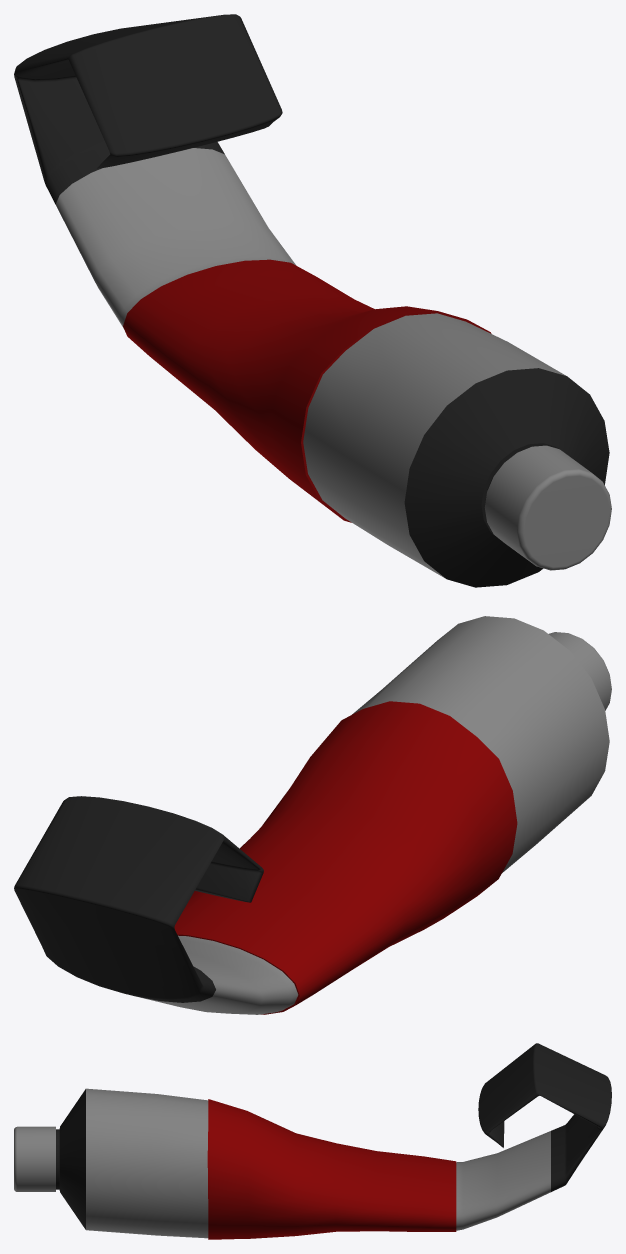
Rendered from sm_paint_tube.fbx.
3 renders of one model, top to bottom at view 1: azimuth 30°, elevation 25°; view 2: azimuth 150°, elevation 25°; view 3: azimuth 270°, elevation 25°, orthographic. The views are drawn at different scales.
Parts seen in each view (by area): view 1: paintube_low (×4); view 2: paintube_low (×4); view 3: paintube_low (×4).
Boxes of the visible parts, x1,y1,x2,y2 form: paintube_low (×4): [14, 14, 611, 587]; paintube_low (×4): [14, 616, 611, 1014]; paintube_low (×4): [14, 1043, 611, 1239].
Size of the model in its own units: 26.41 by 34.86 by 106.
